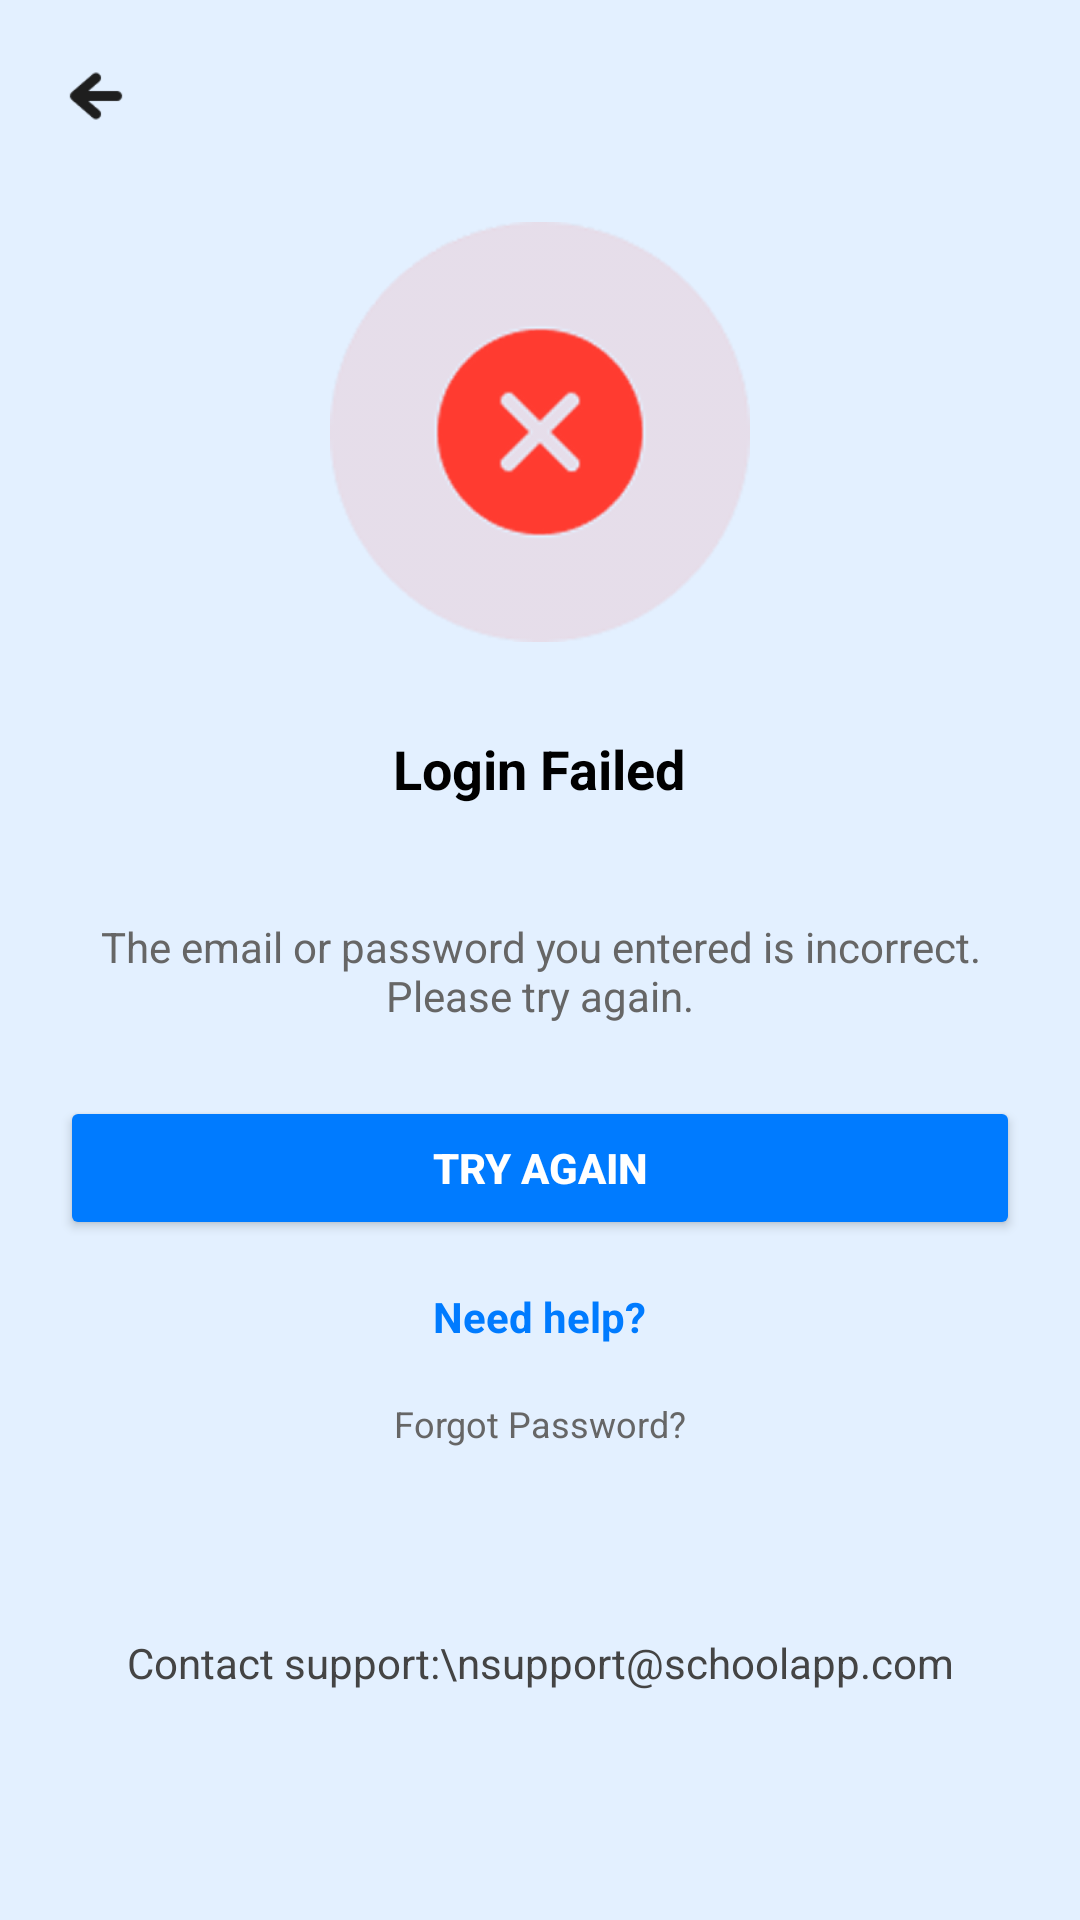

Icon click points for this 1080px x 1920px phone screenshot, format point (x, y):
Back: point (96, 96)
